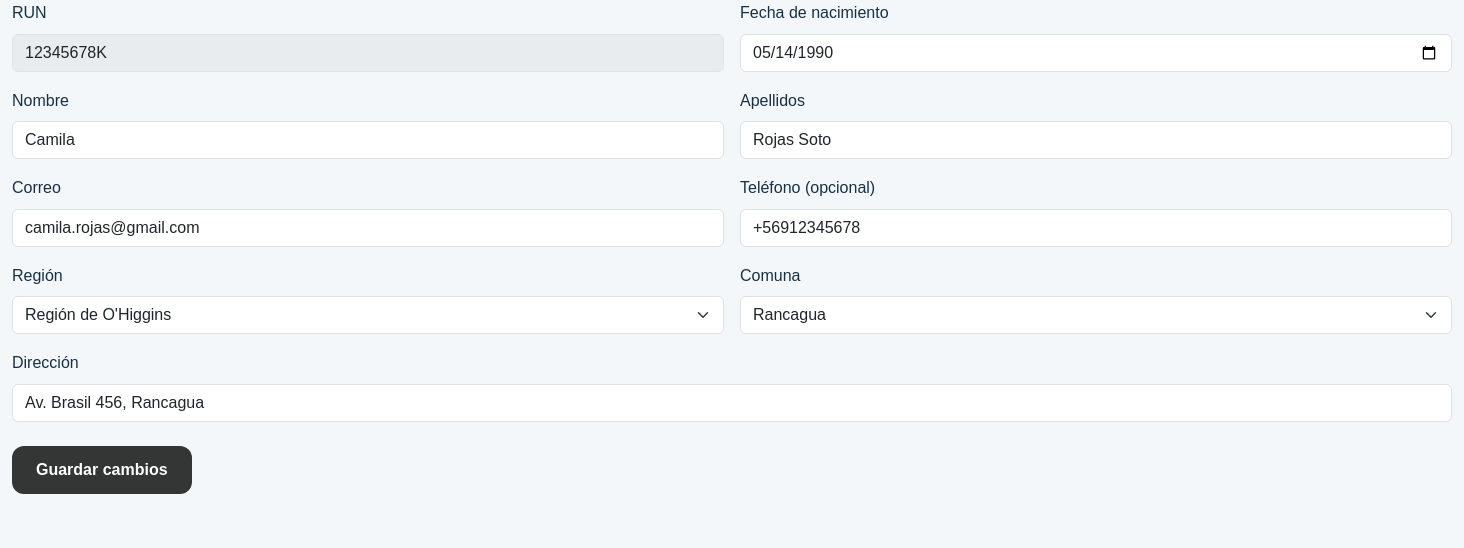
Test: FormularioPerfil › guarda los datos y confirma cuando todo es válido
The image size is (1464, 548).
Click the button "Guardar cambios". click: (102, 470)
box: [12, 446, 192, 494]
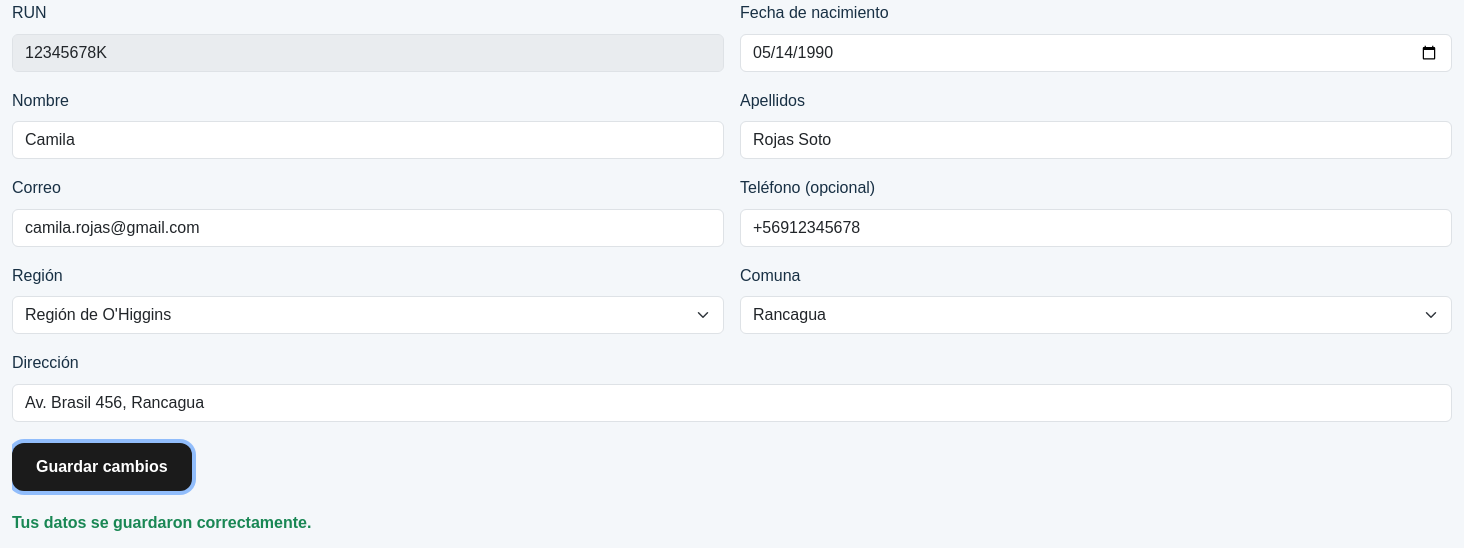
Expected: the text "Tus datos se guardaron correctamente." is shown, [12, 514, 311, 531]
